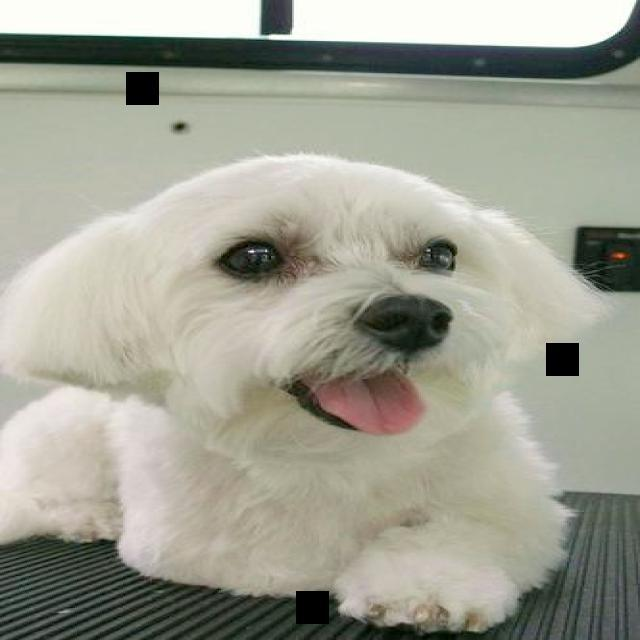adult_dog: (1, 152, 601, 636)
